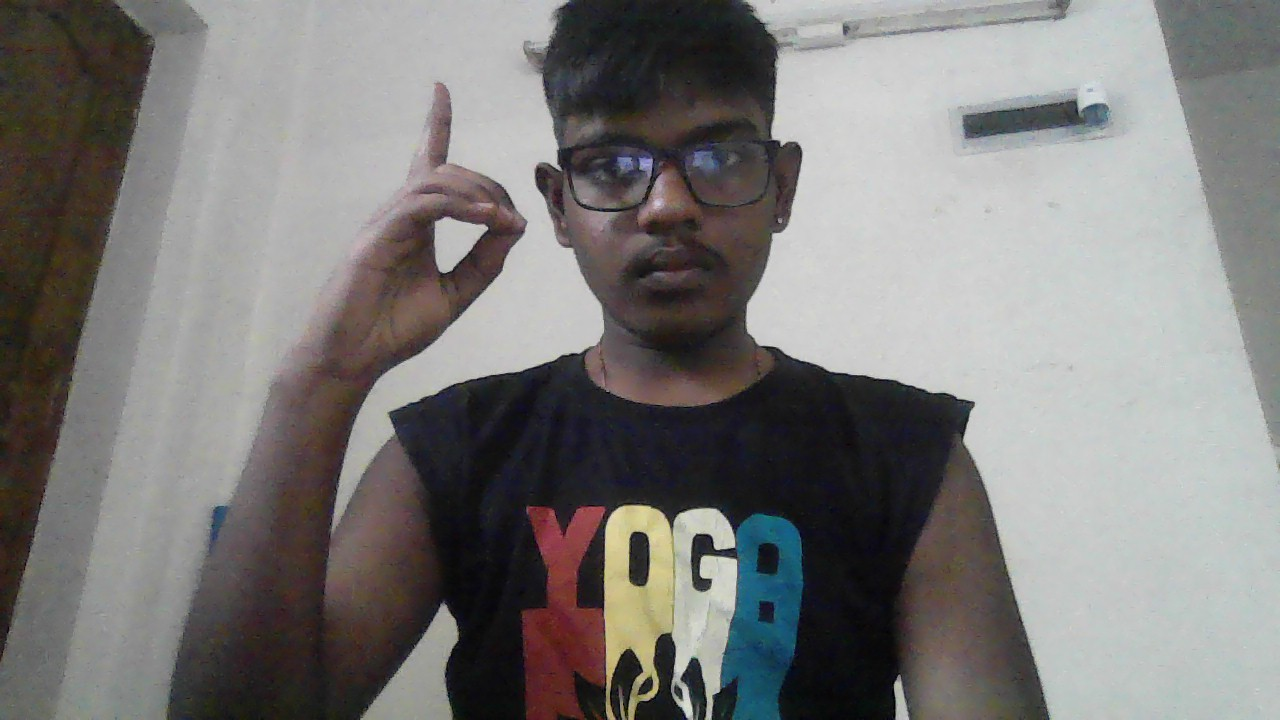D: (337, 82, 527, 357)
